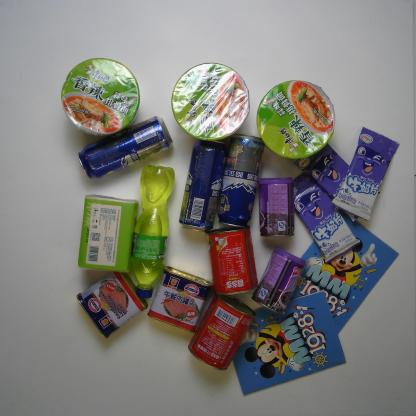Alcohol: (76, 114, 174, 180), (177, 138, 228, 232), (216, 132, 265, 228)
Candy: (293, 143, 383, 223), (331, 126, 401, 223), (293, 172, 360, 266)
Canned Food: (187, 294, 257, 372), (76, 270, 148, 339), (146, 266, 214, 334), (250, 247, 308, 315), (205, 224, 259, 297), (257, 176, 296, 238)
Drink: (130, 164, 176, 299)
Instant Noodles: (59, 56, 141, 137), (255, 79, 336, 160), (170, 62, 251, 142)
Stationery: (290, 215, 400, 333), (232, 288, 348, 396)
Tissue: (76, 194, 140, 274)
